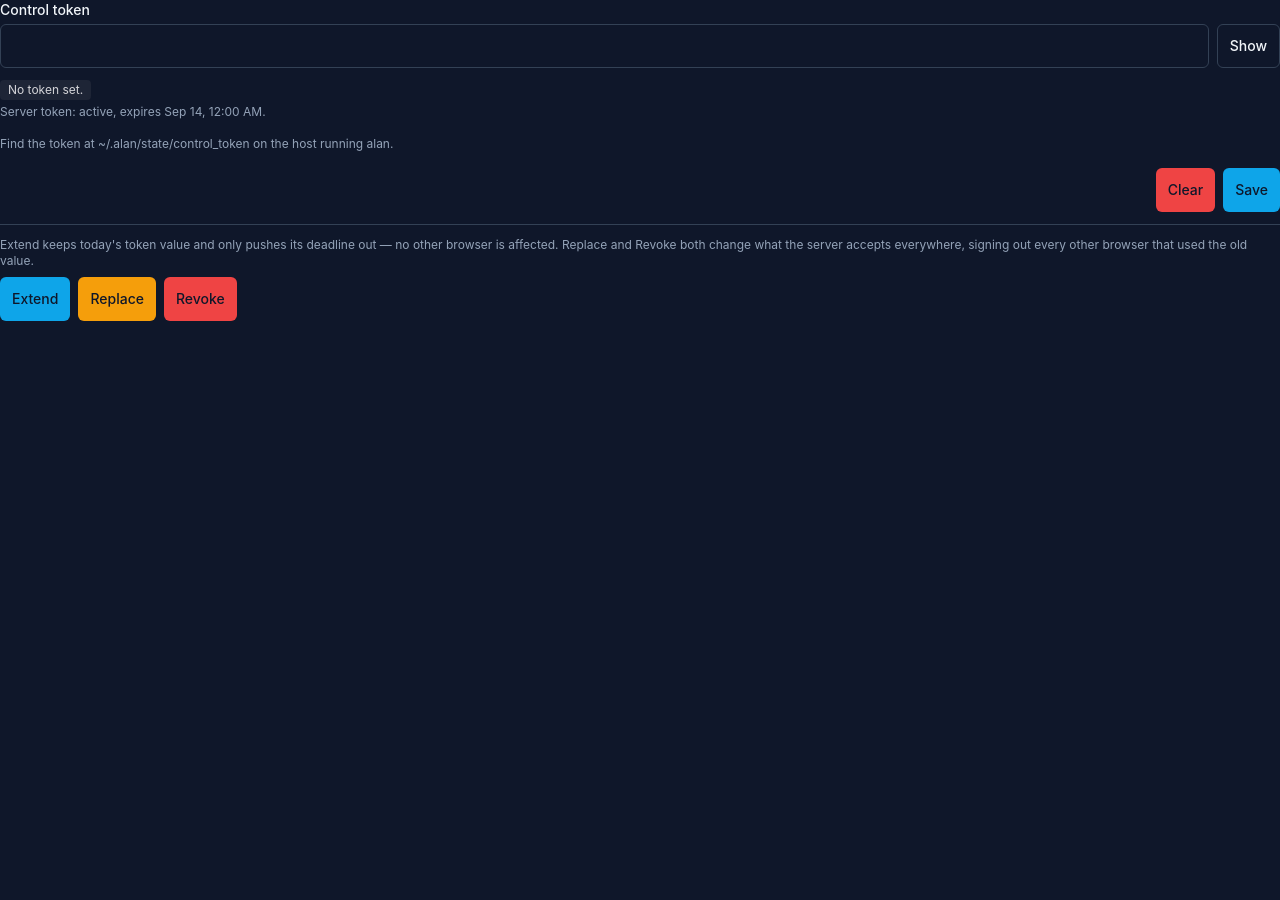
Test: ControlTokenSection › Revoke: Cancel closes the dialog and makes no request
Step 1. Click the button with test id "control-token-revoke" → click(200, 299), box [164,277,237,321]
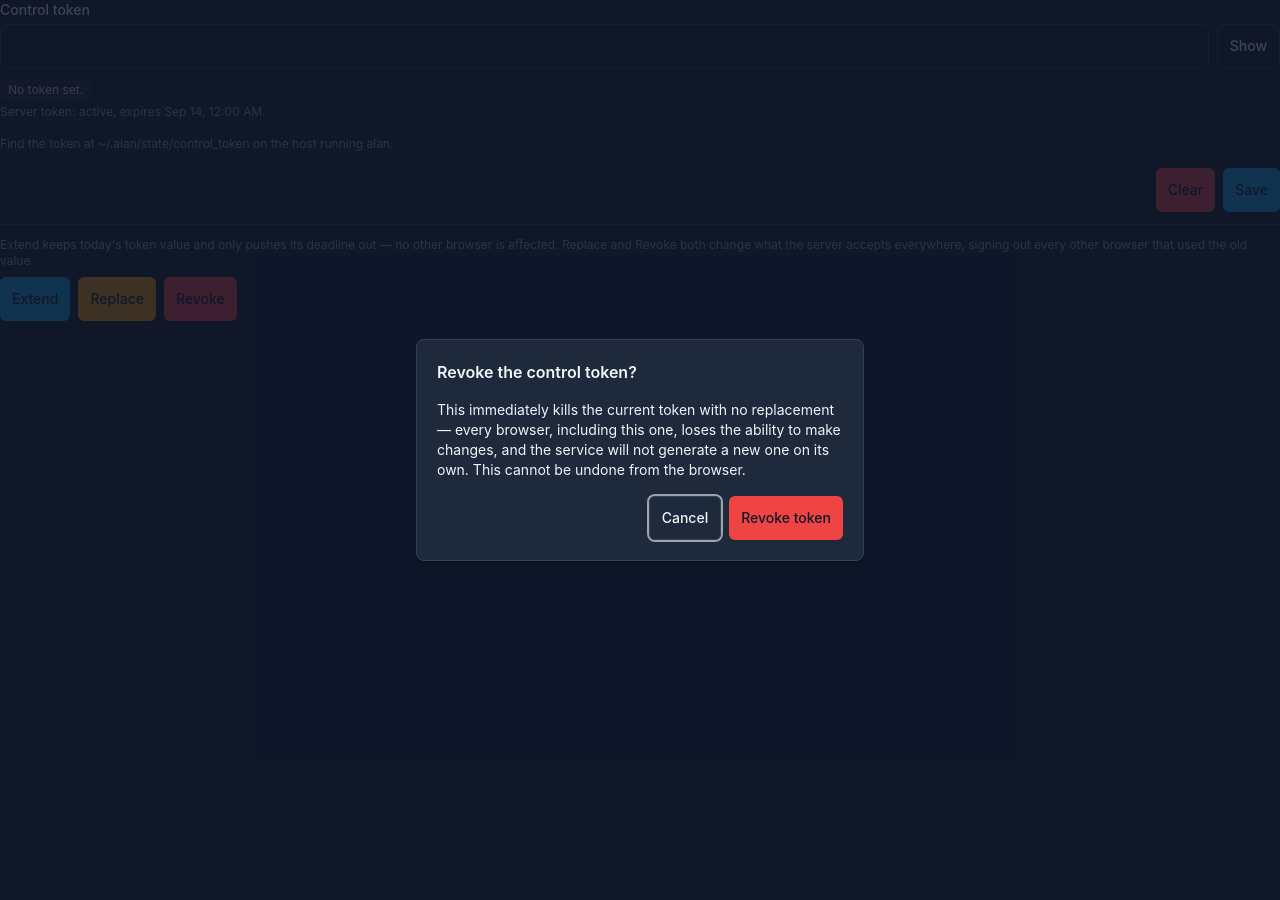
Step 2. Click the button "Cancel" → click(685, 518), box [649,496,721,540]
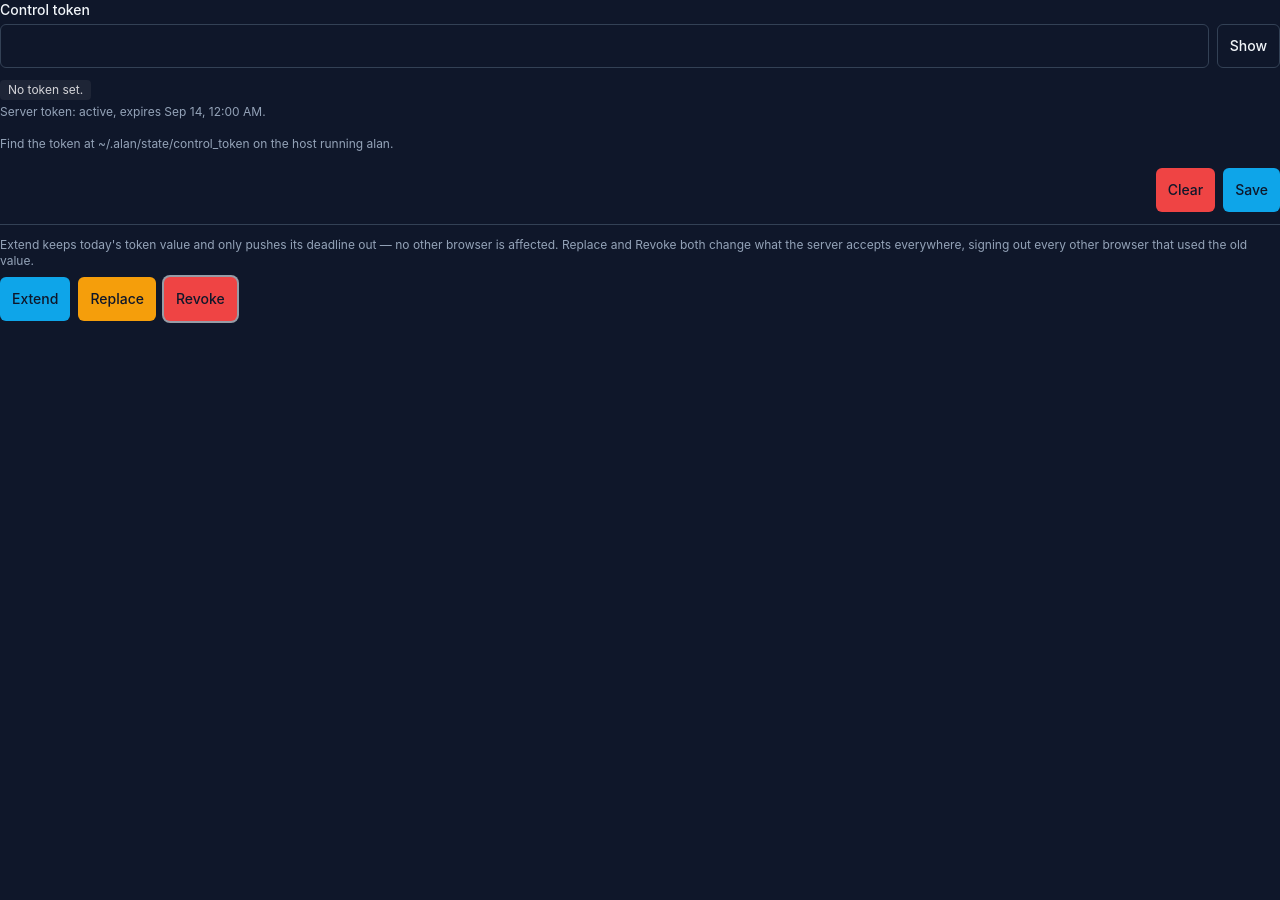
Expected: the dialog with test id "control-token-revoke-confirm" is gone
